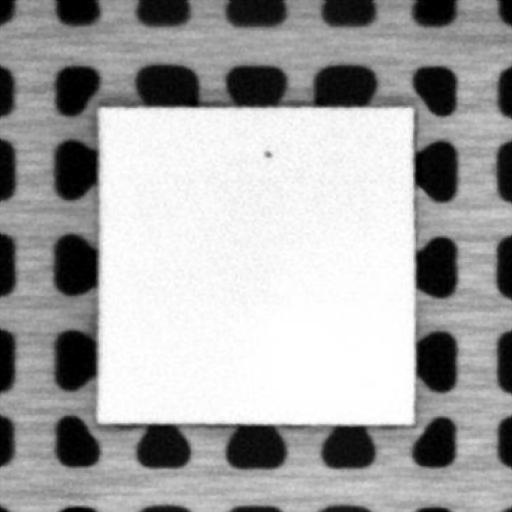DIE_INK: (260, 144, 271, 156)
